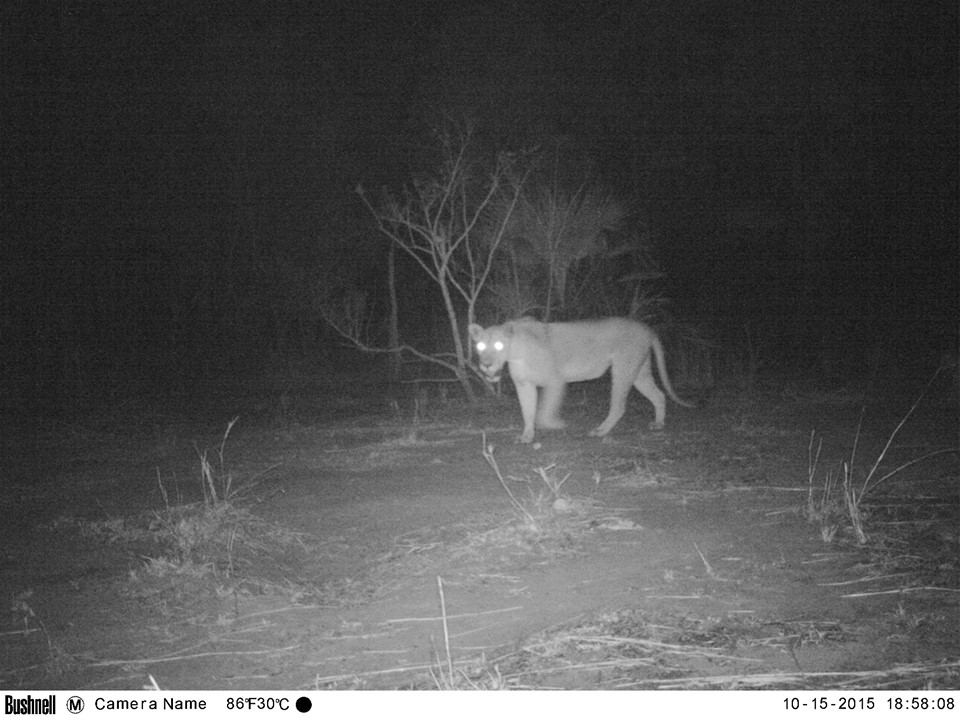mountain lion: (447, 304, 693, 450)
